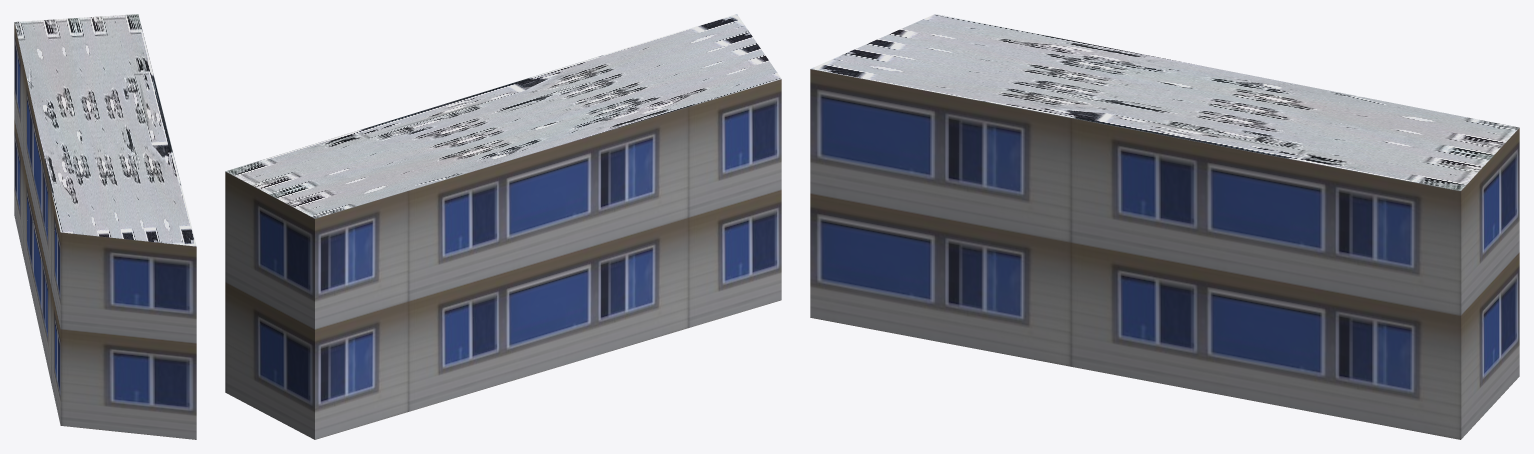
Rendered from ResTex__5179.fbx.
3 views of the same model, side by side, from view 1: azimuth 30°, elevation 25°; view 2: azimuth 150°, elevation 25°; view 3: azimuth 270°, elevation 25° (orthographic). The views are drawn at different scales.
Visible parts, largest first — view 1: CityEngineMaterial_23_m, CityEngineMaterial_4_m; view 2: CityEngineMaterial_23_m, CityEngineMaterial_4_m; view 3: CityEngineMaterial_23_m, CityEngineMaterial_4_m.
Part boxes in pixels (left/top/right/bottom): CityEngineMaterial_23_m: left=14, top=23, right=196, bottom=439; CityEngineMaterial_4_m: left=14, top=14, right=196, bottom=246; CityEngineMaterial_23_m: left=225, top=79, right=781, bottom=439; CityEngineMaterial_4_m: left=226, top=14, right=781, bottom=218; CityEngineMaterial_23_m: left=810, top=69, right=1519, bottom=439; CityEngineMaterial_4_m: left=811, top=14, right=1519, bottom=190.
Bounding box in the file's own units: 9.16 × 6 × 15.5.
2 materials, 2 textured.
